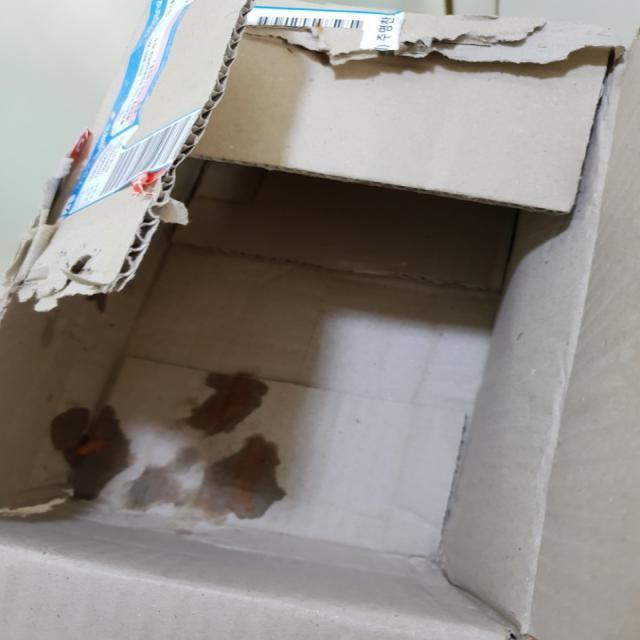wet: (40, 364, 293, 532)
